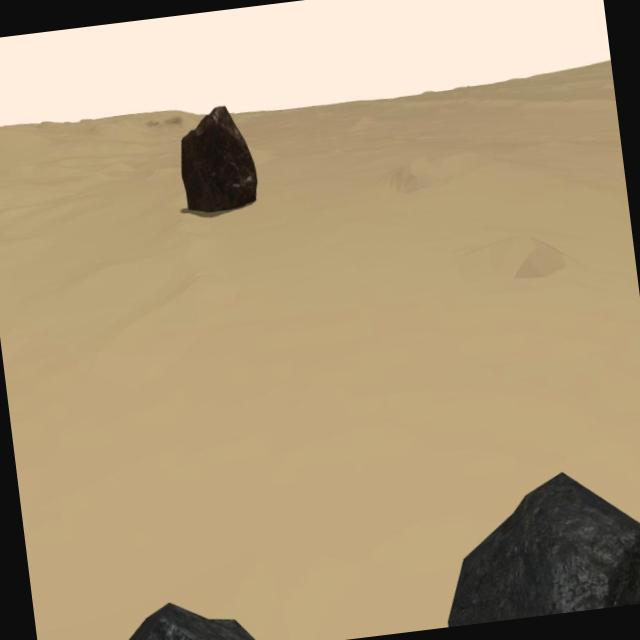rock: (429, 456, 640, 625), (76, 589, 275, 640), (174, 101, 260, 216)
